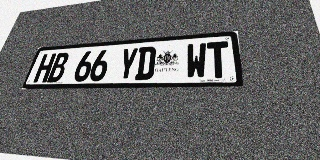6: (72, 51, 96, 82), (88, 49, 111, 81)
B: (47, 52, 70, 82)
D: (134, 46, 157, 80)
H: (33, 53, 56, 83)
T: (207, 41, 230, 78)
W: (186, 43, 207, 79)
Y: (116, 47, 139, 81)
